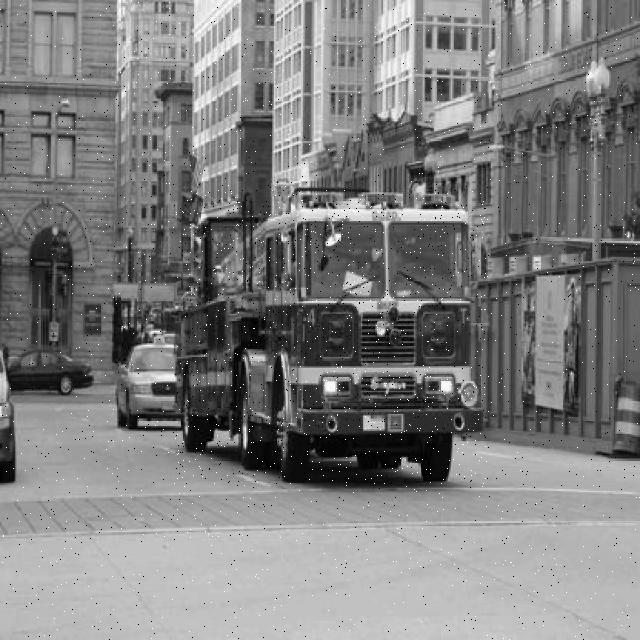Fire Truck: (175, 190, 486, 484)
